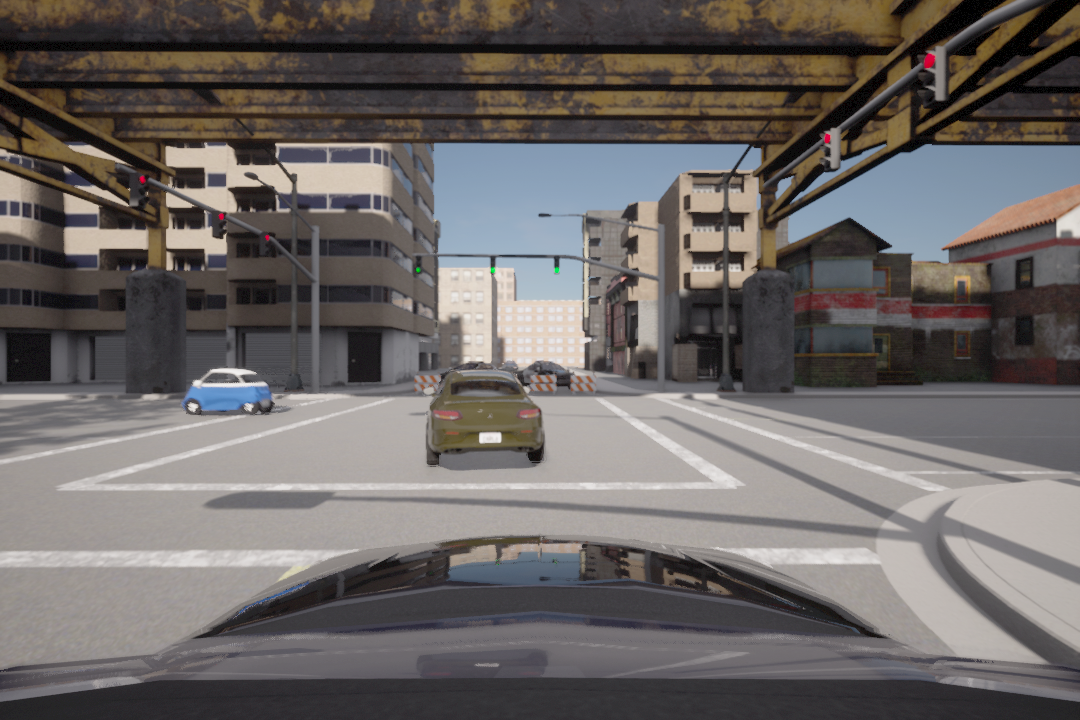TrafficLight: (920, 46, 947, 105), (127, 171, 153, 217), (820, 127, 841, 172), (211, 207, 228, 242), (261, 231, 274, 260), (411, 254, 426, 277), (487, 253, 501, 276), (551, 255, 562, 274)
